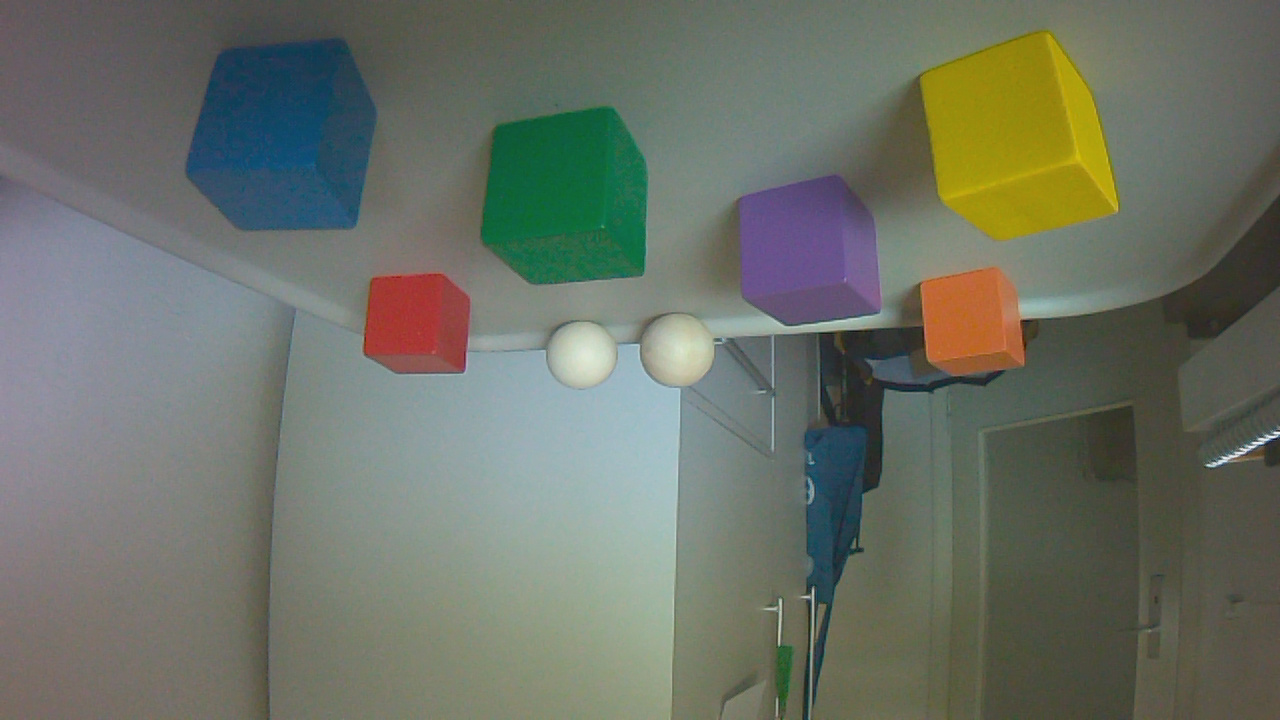ball: (643, 315, 721, 396), (550, 322, 622, 396)
cube_blue: (189, 42, 384, 239)
cube_green: (482, 108, 655, 293)
cube_orange: (923, 269, 1032, 384)
cube_purple: (738, 177, 888, 333)
cube_red: (367, 275, 477, 381)
cube_yellow: (921, 34, 1124, 249)
